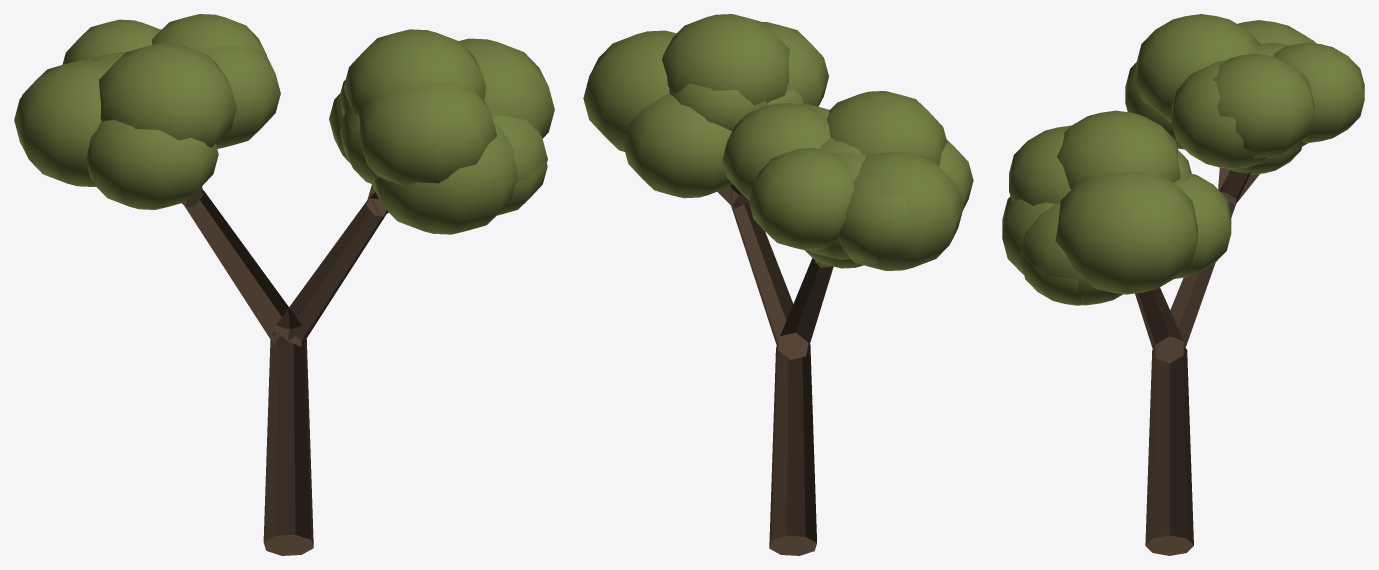
Rendered from tree-broadleaf-1.glb.
3 renders of one model, left to right at view 1: azimuth 30°, elevation 25°; view 2: azimuth 150°, elevation 25°; view 3: azimuth 270°, elevation 25°, orthographic. The views are drawn at different scales.
Parts seen in each view (by area): view 1: tree-broadleaf-1; view 2: tree-broadleaf-1; view 3: tree-broadleaf-1.
Part boxes in pixels (bbox=[...]): tree-broadleaf-1: bbox=[14, 14, 554, 555]; tree-broadleaf-1: bbox=[583, 14, 973, 555]; tree-broadleaf-1: bbox=[1002, 14, 1364, 555].
Size of the model in its own units: 8.09 by 8.74 by 6.04.
